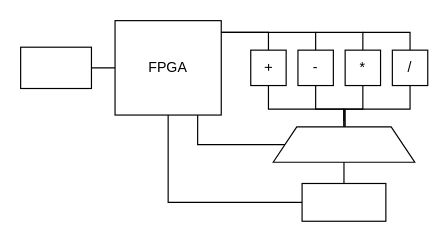
This 448x242 diagram has some shape labels left out. Here are the shapes that lost their labels. From the top down, the box of each, then its label:
(19, 46, 91, 88): LCD Screen
(272, 126, 415, 162): Operation Mux
(301, 182, 386, 221): 12-16 bit input
